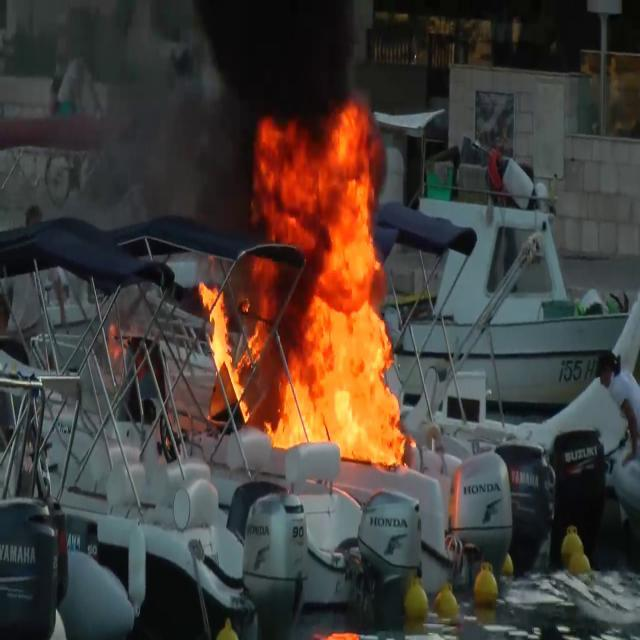Fire: (200, 100, 406, 468)
